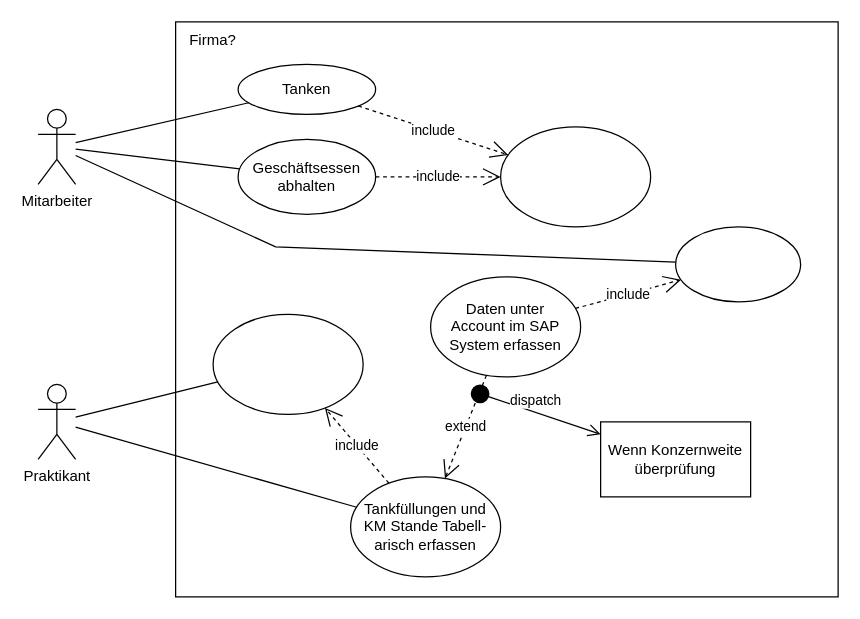
This 860x619 diagram has some shape labels left out. The shapes that lost their labels are listed below. From the top down, each one's box as (x1, y1, x2, y2) in pixels, then its label:
(499, 126, 651, 227): Quittung sammeln und archivieren
(674, 226, 801, 302): Daten auswerten
(212, 313, 363, 414): Praktikant zu Excel Schulung schicken
